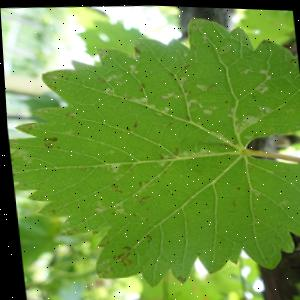Folha: (0, 5, 300, 297)
Fungo: (226, 106, 262, 133), (107, 244, 131, 267), (92, 157, 123, 172), (151, 88, 183, 101), (189, 77, 213, 94), (183, 92, 204, 109), (172, 72, 194, 88), (107, 197, 125, 214), (8, 149, 28, 164), (89, 200, 107, 216), (39, 136, 59, 150), (133, 194, 148, 205), (253, 81, 268, 92), (106, 182, 120, 193), (63, 111, 75, 119), (155, 152, 167, 159), (40, 136, 56, 141), (200, 107, 211, 114), (141, 233, 150, 241), (41, 142, 51, 149), (118, 245, 128, 250), (94, 76, 104, 81), (228, 198, 234, 205), (233, 185, 237, 188)
